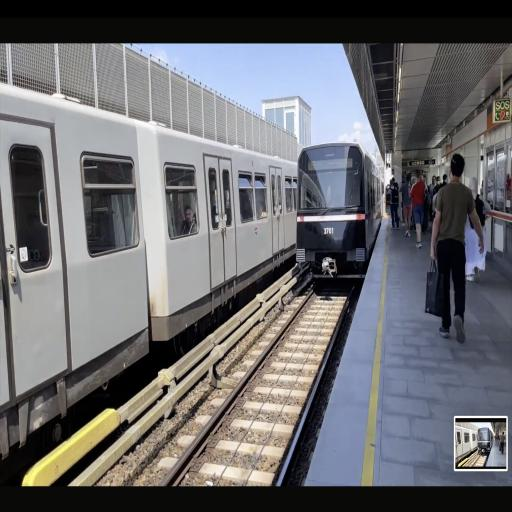X-Wagen: (296, 144, 384, 278)
